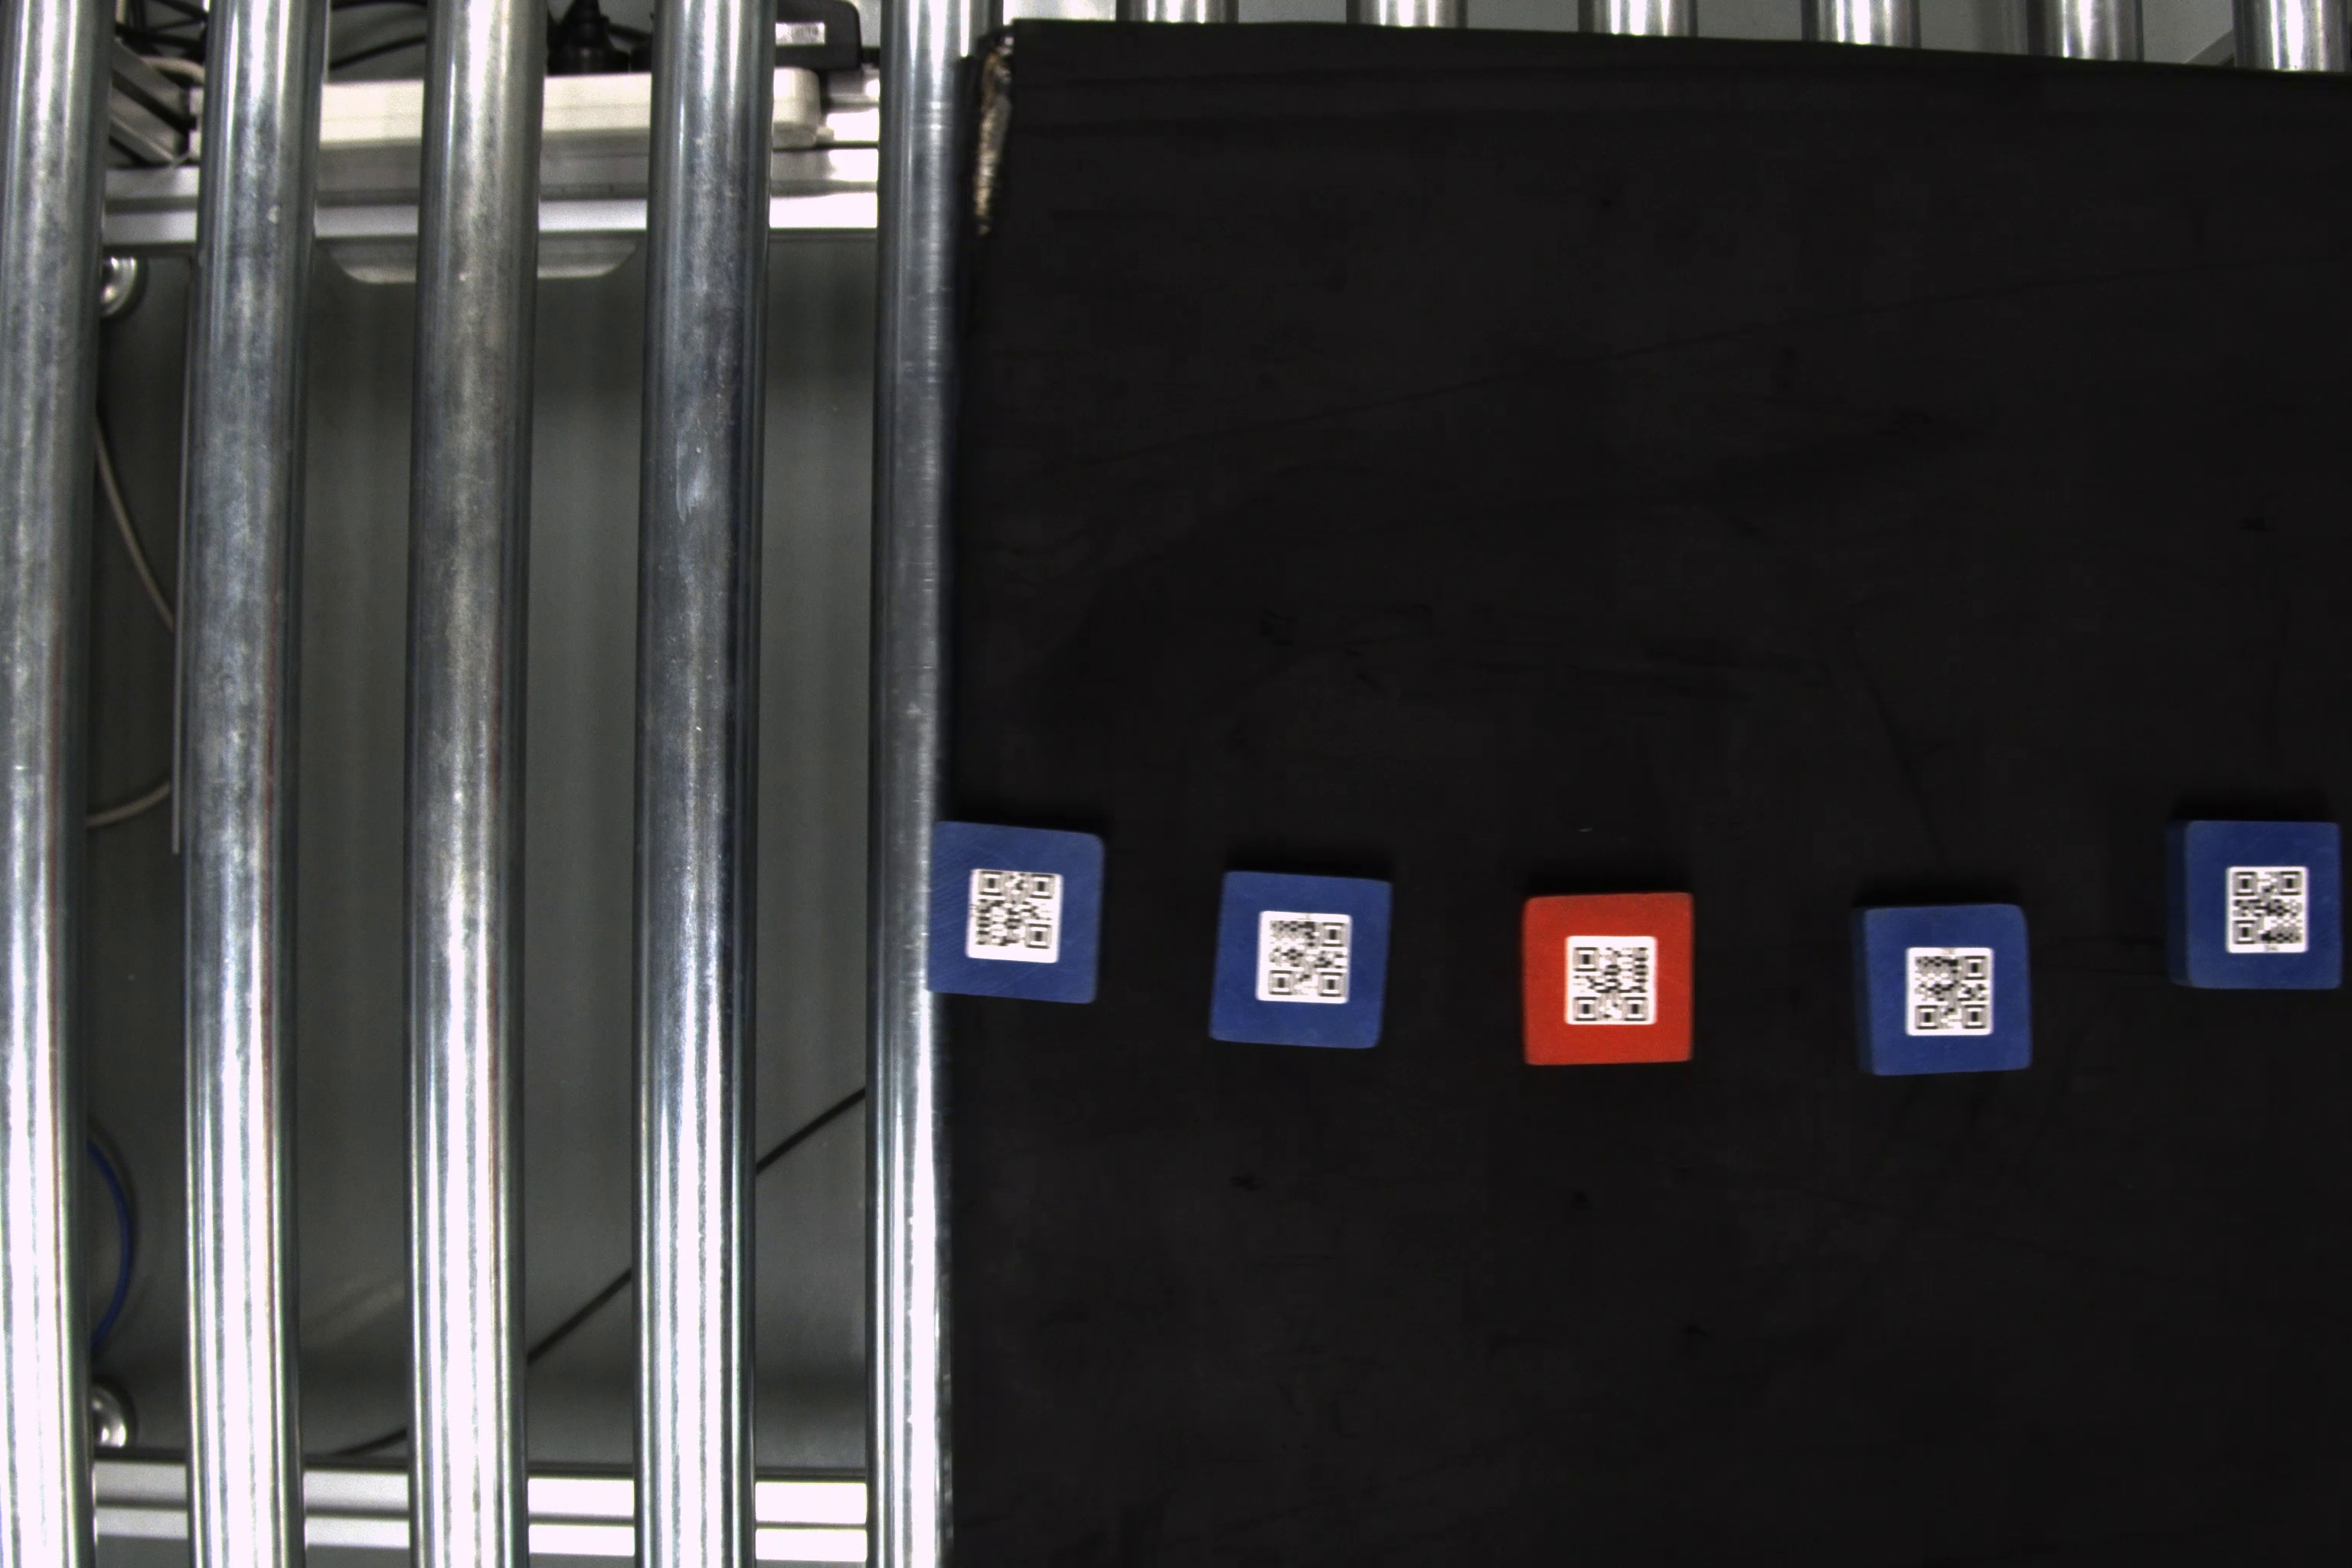wood: (924, 817, 1109, 1006), (1207, 868, 1395, 1048), (1850, 906, 2039, 1081), (2170, 817, 2348, 996), (1519, 891, 1701, 1066)
